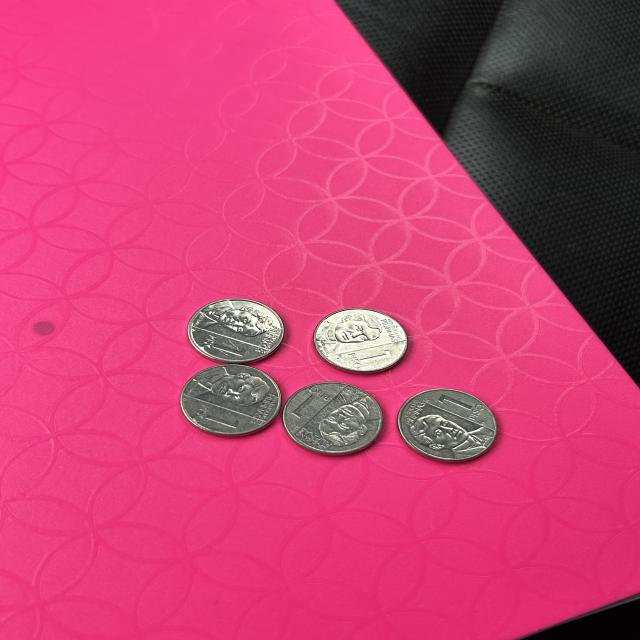1_New_Front: (197, 330, 247, 369), (290, 382, 336, 423), (434, 391, 491, 422), (191, 402, 239, 436), (343, 351, 397, 372)
